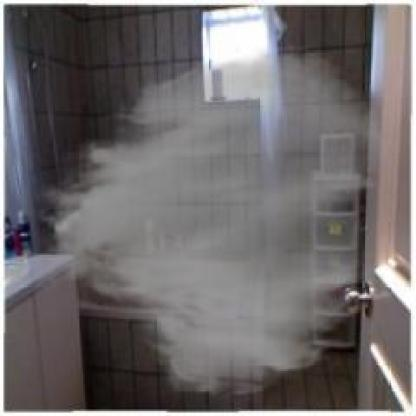Smoke: (28, 43, 392, 400)
